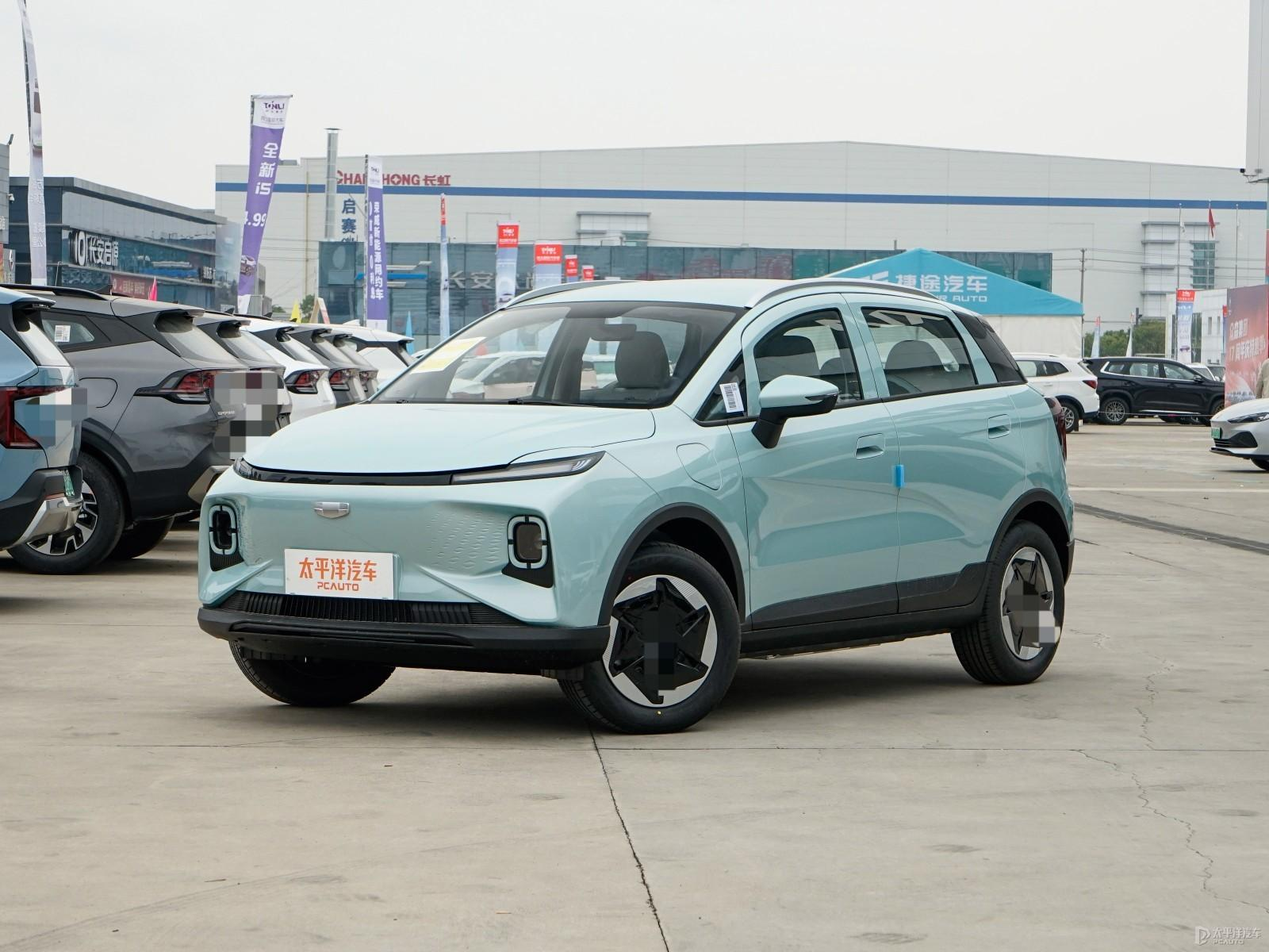GEOMETRY: (315, 503, 349, 517)
